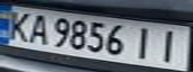5: (87, 20, 109, 54)
6: (103, 21, 130, 57)
8: (66, 17, 90, 52)
9: (48, 15, 72, 48)
A: (24, 11, 51, 46)
I: (151, 27, 187, 64), (127, 24, 160, 61)
K: (3, 8, 33, 43)
